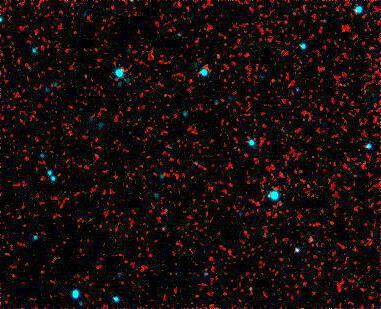star: (306, 95, 336, 125)
